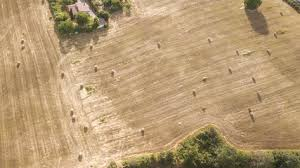sheep: (245, 106, 256, 120), (255, 90, 263, 102), (233, 47, 241, 58), (272, 31, 281, 40), (80, 123, 90, 131), (264, 48, 273, 56), (249, 75, 257, 83), (57, 71, 67, 77), (200, 75, 210, 81), (138, 126, 146, 133), (19, 43, 27, 50), (87, 43, 95, 50), (190, 88, 197, 96), (76, 152, 85, 158), (70, 114, 77, 121), (109, 68, 116, 75), (155, 41, 163, 47), (68, 107, 75, 113), (92, 64, 99, 70), (77, 83, 84, 89), (200, 105, 207, 111), (14, 60, 22, 65), (206, 37, 214, 42), (226, 66, 232, 72), (19, 38, 26, 43)
